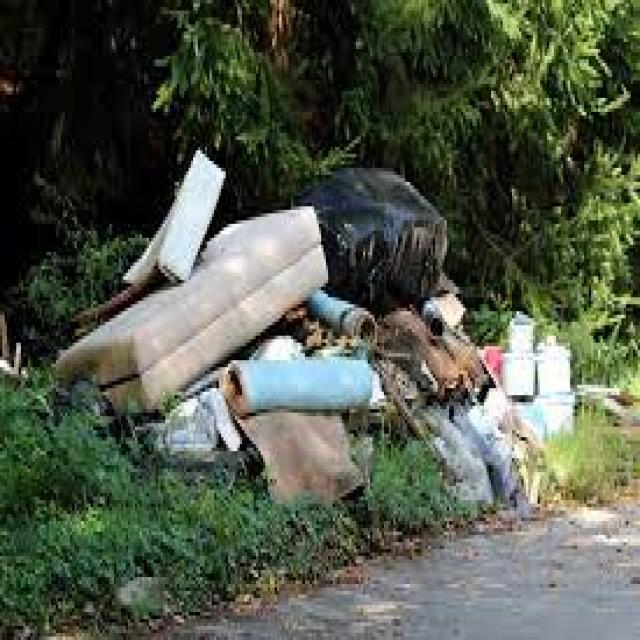dumping: (63, 98, 596, 550)
